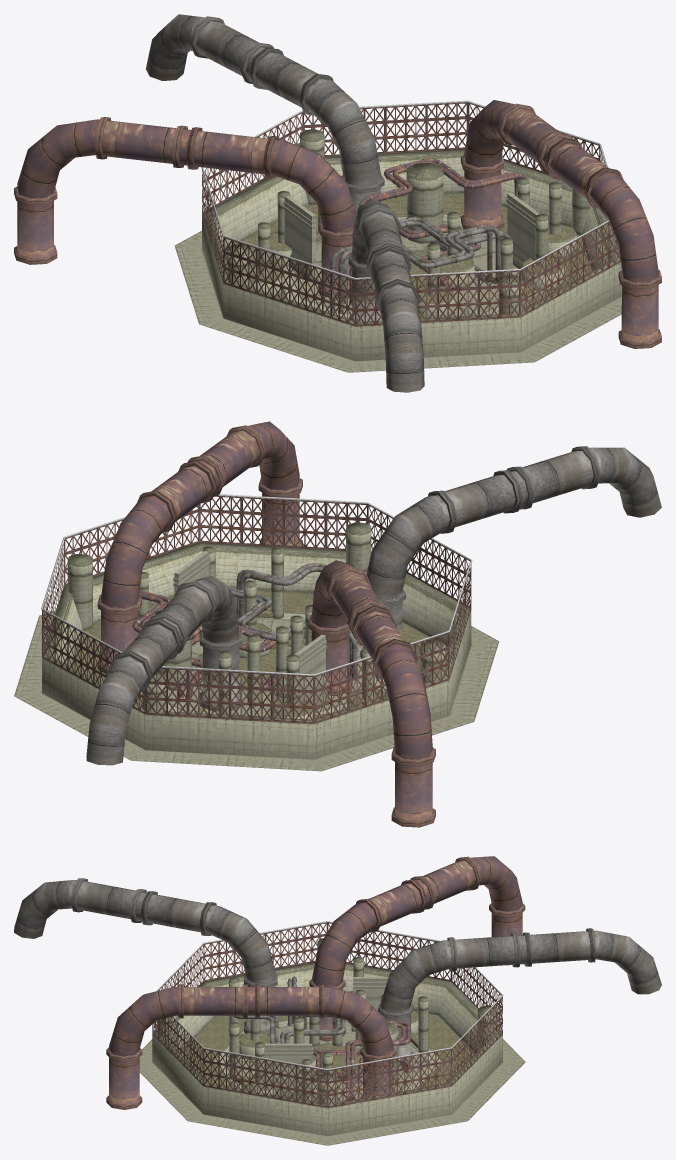
File: BASKET_Borular.fbx
3 renders of one model, top to bottom at view 1: azimuth 30°, elevation 25°; view 2: azimuth 150°, elevation 25°; view 3: azimuth 270°, elevation 25°, orthographic. The views are drawn at different scales.
Visible parts, largest first — view 1: Basket_Borular METAL, Basket_Borular CONCRETE; view 2: Basket_Borular METAL, Basket_Borular CONCRETE; view 3: Basket_Borular METAL, Basket_Borular CONCRETE.
Boxes of the visible parts, x1,y1,x2,y2 form: Basket_Borular METAL: (14,14,661,392); Basket_Borular CONCRETE: (174,129,621,372); Basket_Borular METAL: (41,421,661,827); Basket_Borular CONCRETE: (14,522,499,771); Basket_Borular METAL: (14,856,661,1109); Basket_Borular CONCRETE: (139,938,525,1145).
Bounding box in the file's own units: 120 × 34.23 × 168.
